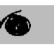correct: (4, 16, 32, 38)
